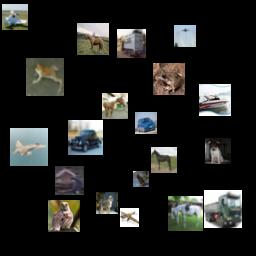airplane: (10, 128, 48, 166), (2, 4, 28, 30), (174, 25, 196, 47), (120, 208, 139, 227)
automobile: (68, 120, 103, 155), (135, 112, 157, 134)
bird: (48, 200, 80, 232)
cat: (55, 166, 84, 195), (133, 171, 149, 187)
dog: (205, 138, 231, 164), (96, 192, 118, 214)
frog: (26, 58, 64, 96), (153, 63, 185, 95)
ship: (199, 84, 231, 116)
truck: (204, 190, 242, 228), (117, 29, 146, 58)
